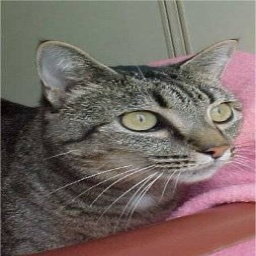cat: (2, 41, 242, 244)
